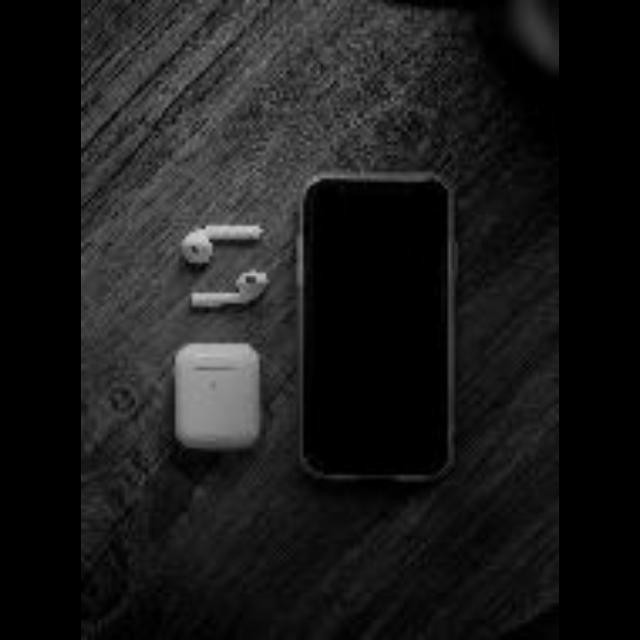fake: (292, 174, 457, 491)
